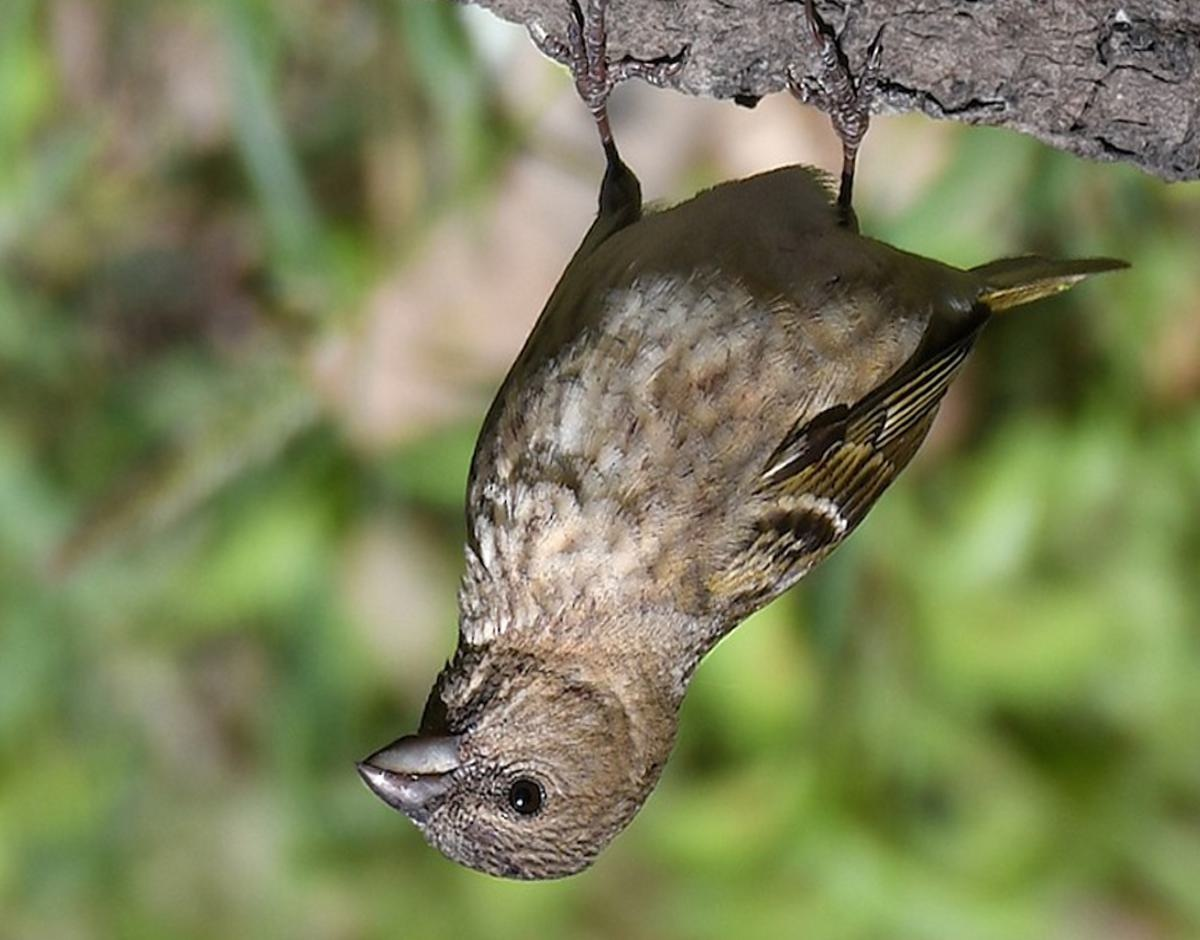rosefinch: (341, 142, 1026, 896)
